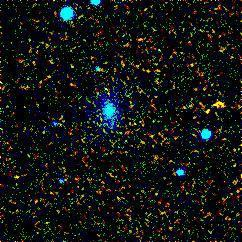star: (204, 88, 234, 118)
